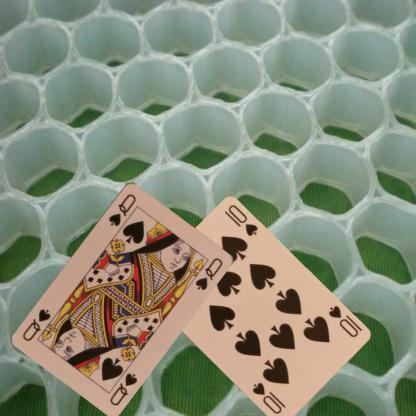10s: (326, 303, 360, 339)
Qs: (107, 370, 139, 407), (106, 191, 138, 227)
